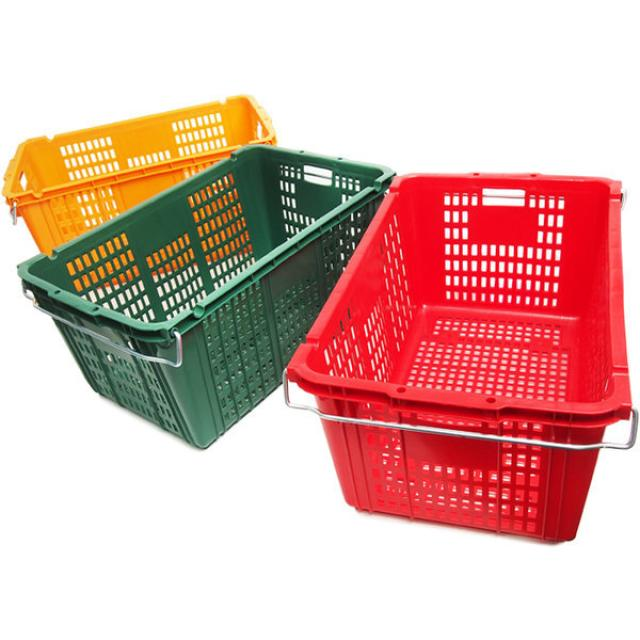basket: (13, 91, 465, 488), (284, 174, 640, 542), (0, 40, 282, 262)
